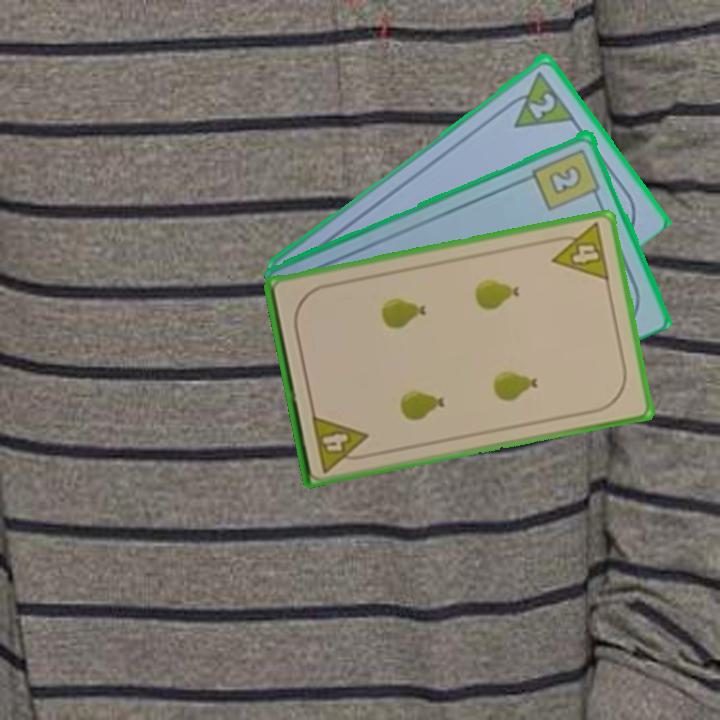2b: (529, 144, 604, 213)
2p: (498, 66, 577, 131)
4p: (545, 219, 613, 284), (308, 410, 373, 475)
